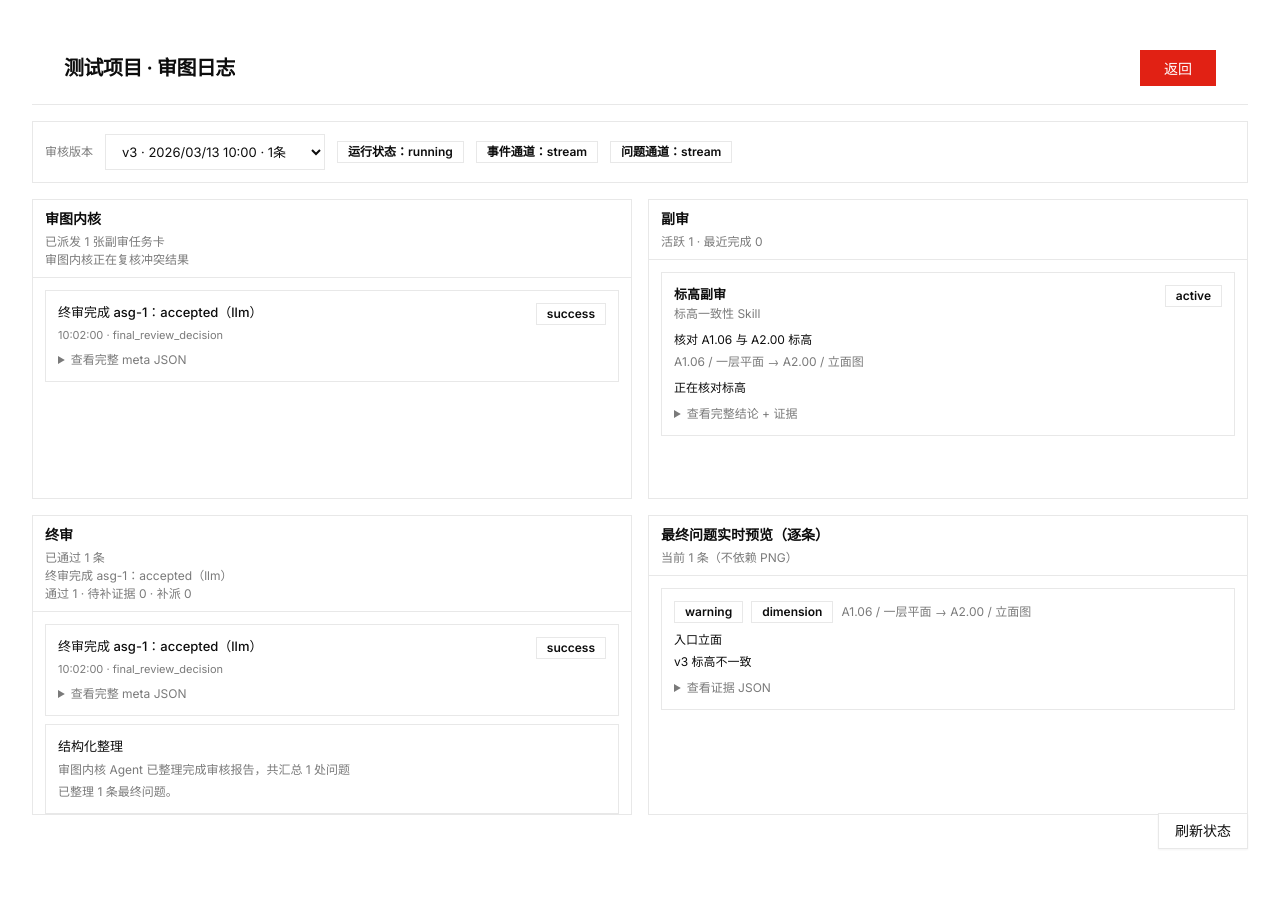
Test: AuditLogsPage › 切换版本后会清空旧流状态并按新版本重新订阅
The image size is (1280, 900).
Expected: the text "v3 标高不一致" is shown, [674,654,752,669]
Select "v2 · 2026/03/13 08:10 · 1条" in the dropdown with test id "version-select": x=215, y=152 [105,134,325,170]
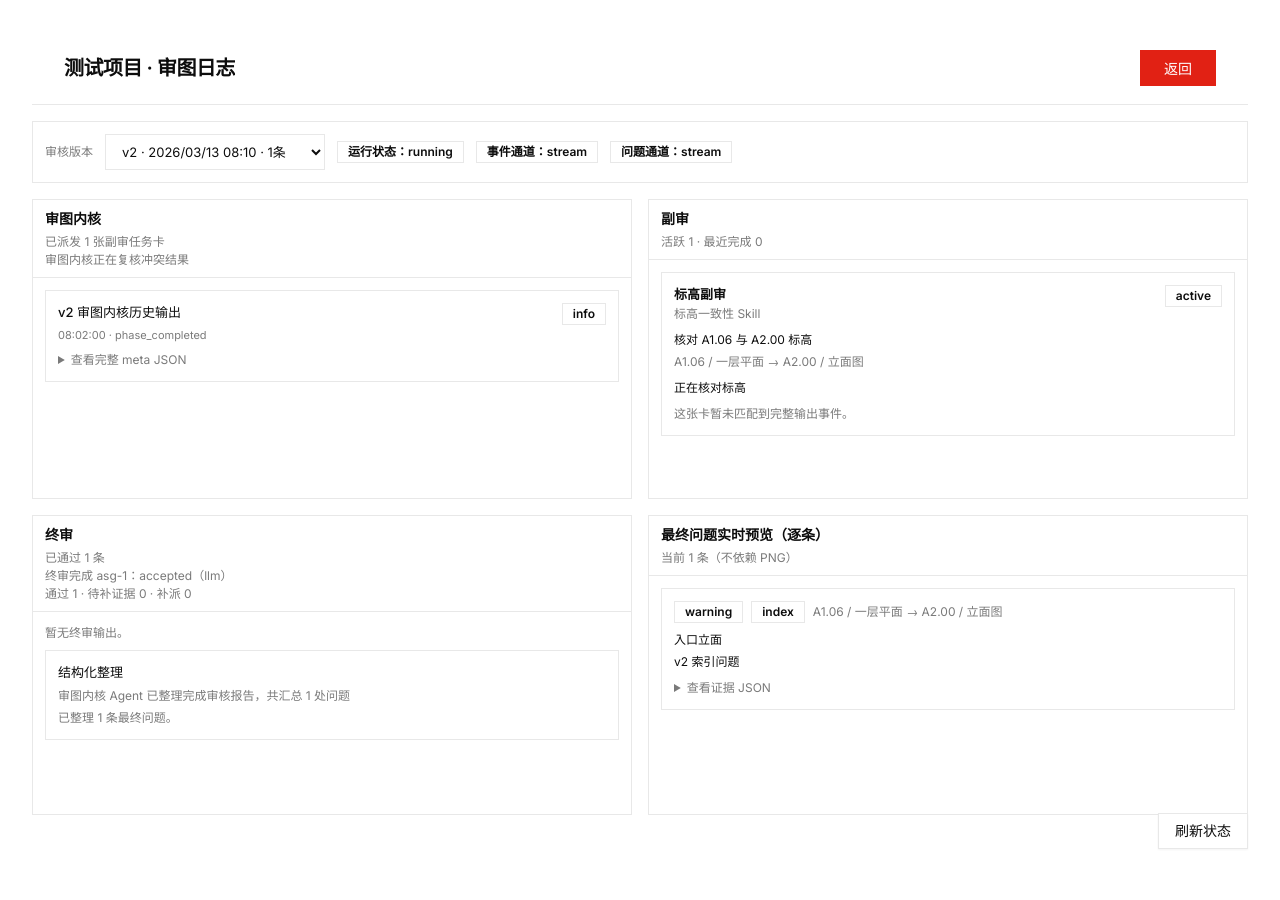
Expected: the text "v2 审图内核历史输出" is shown, [58,304,181,320]
Expected: the text "v2 索引问题" is shown, [674,654,740,669]
Expected: the text "v3 标高不一致" is gone
